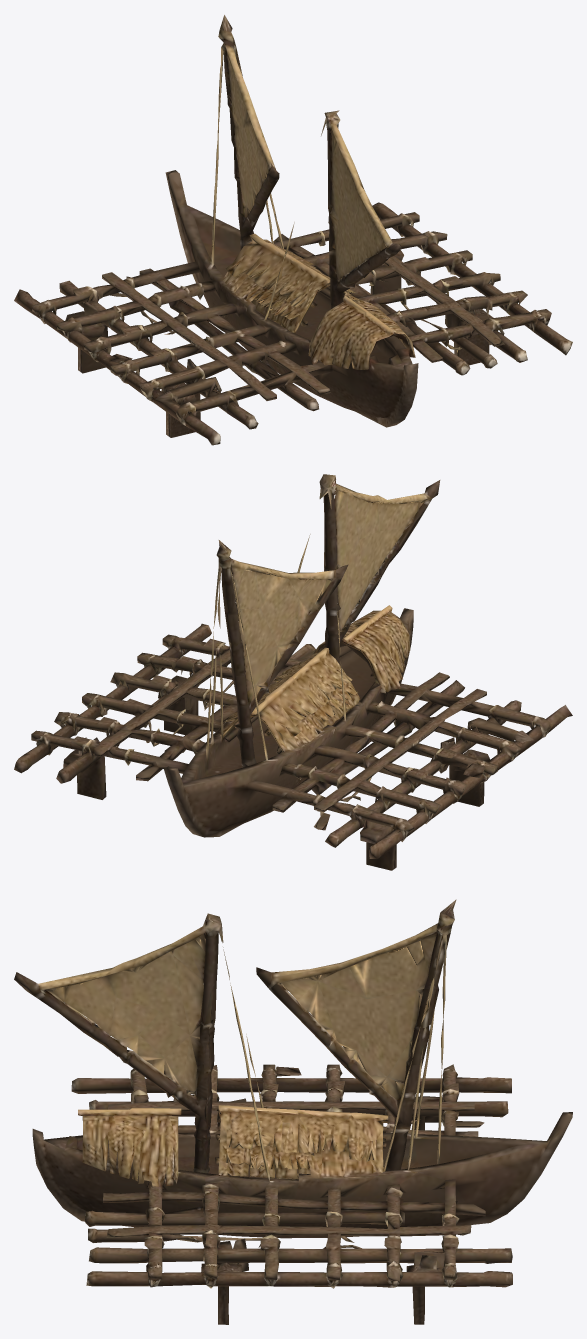
File: Balanghay-512(10K).glb
The picture shows the model from 3 angles, top to bottom: view 1: azimuth 30°, elevation 25°; view 2: azimuth 150°, elevation 25°; view 3: azimuth 270°, elevation 25°; orthographic projection. The views are drawn at different scales.
Visible parts, largest first — view 1: tripo_node_2bfb3cd3-2f40-49c3-9276-fb473ebc52a6; view 2: tripo_node_2bfb3cd3-2f40-49c3-9276-fb473ebc52a6; view 3: tripo_node_2bfb3cd3-2f40-49c3-9276-fb473ebc52a6.
Boxes of the visible parts, bbox=[...] form: tripo_node_2bfb3cd3-2f40-49c3-9276-fb473ebc52a6: bbox=[14, 15, 572, 445]; tripo_node_2bfb3cd3-2f40-49c3-9276-fb473ebc52a6: bbox=[14, 474, 572, 870]; tripo_node_2bfb3cd3-2f40-49c3-9276-fb473ebc52a6: bbox=[14, 899, 572, 1324].
Bounding box in the file's own units: 0.8742 × 0.66 × 0.9827.
1 material, 1 textured.
